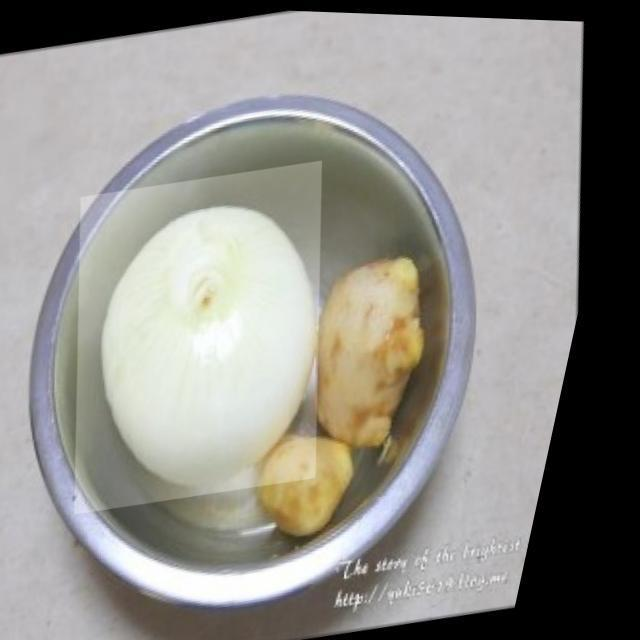Onion: (36, 151, 390, 520)
